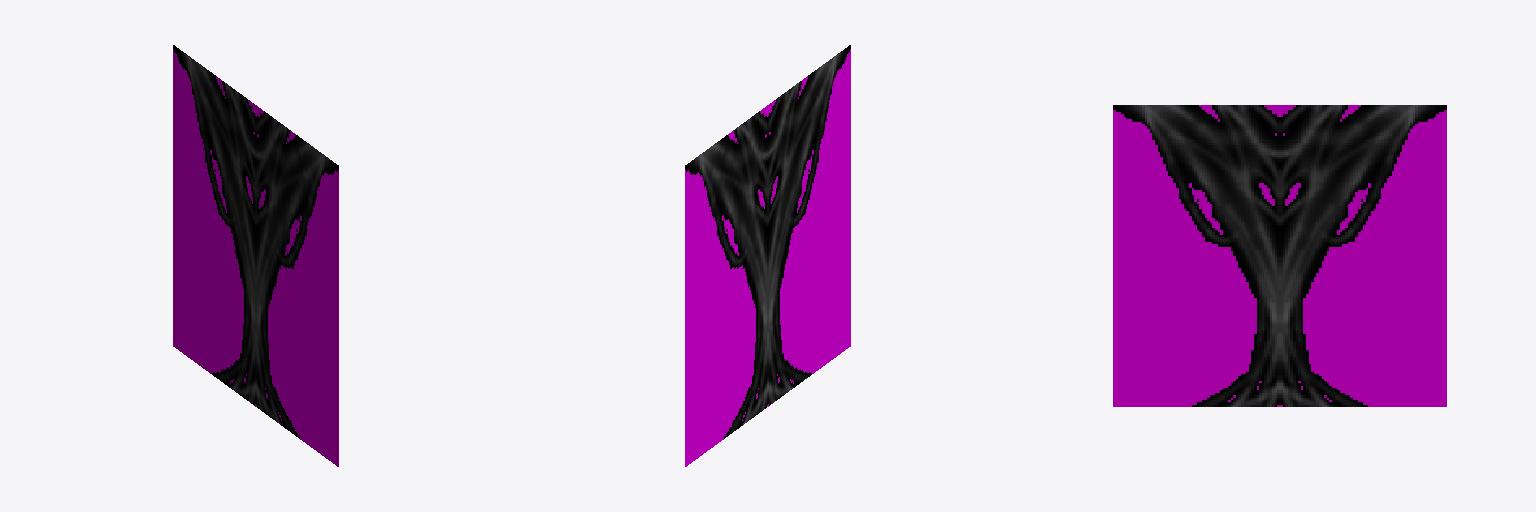
The picture shows the model from 3 angles: view 1: azimuth 30°, elevation 25°; view 2: azimuth 150°, elevation 25°; view 3: azimuth 270°, elevation 25°; orthographic projection.
Visible parts, largest first — view 1: Plane.002, Plane.001_Plane.003; view 2: Plane.002, Plane.001_Plane.003; view 3: Plane.002, Plane.001_Plane.003.
Boxes of the visible parts, x1=… form: Plane.002: x1=173, y1=45, x2=338, y2=466; Plane.001_Plane.003: x1=173, y1=47, x2=338, y2=466; Plane.002: x1=685, y1=45, x2=850, y2=465; Plane.001_Plane.003: x1=685, y1=46, x2=850, y2=466; Plane.002: x1=1113, y1=105, x2=1446, y2=406; Plane.001_Plane.003: x1=1113, y1=105, x2=1446, y2=406.
Size of the model in its own units: 0 by 20.48 by 20.48.
Materials: 1 (1 with a texture image).